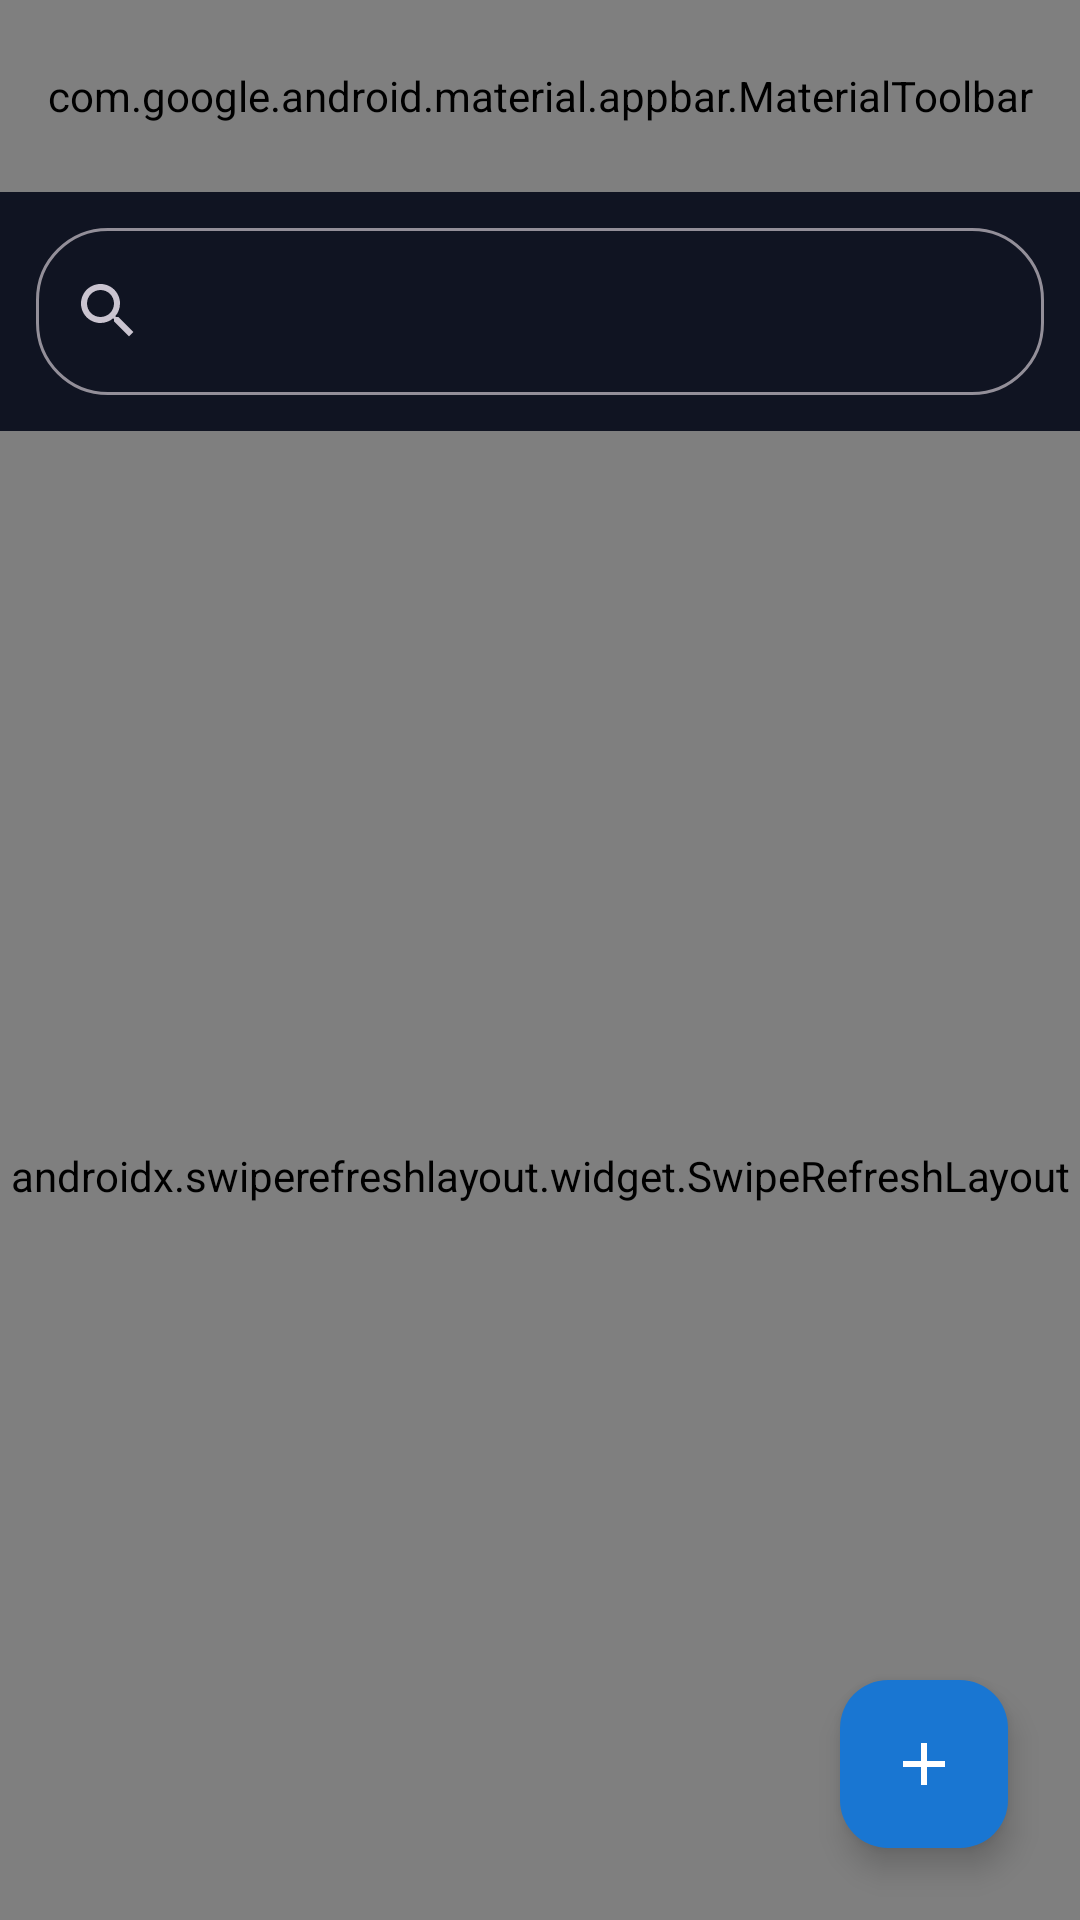

Named icons in this screenshot (1080 x 1920) and their bounding boxes, (x1, y1, x2, y2):
إضافة حساب: (840, 1680, 1008, 1848)
